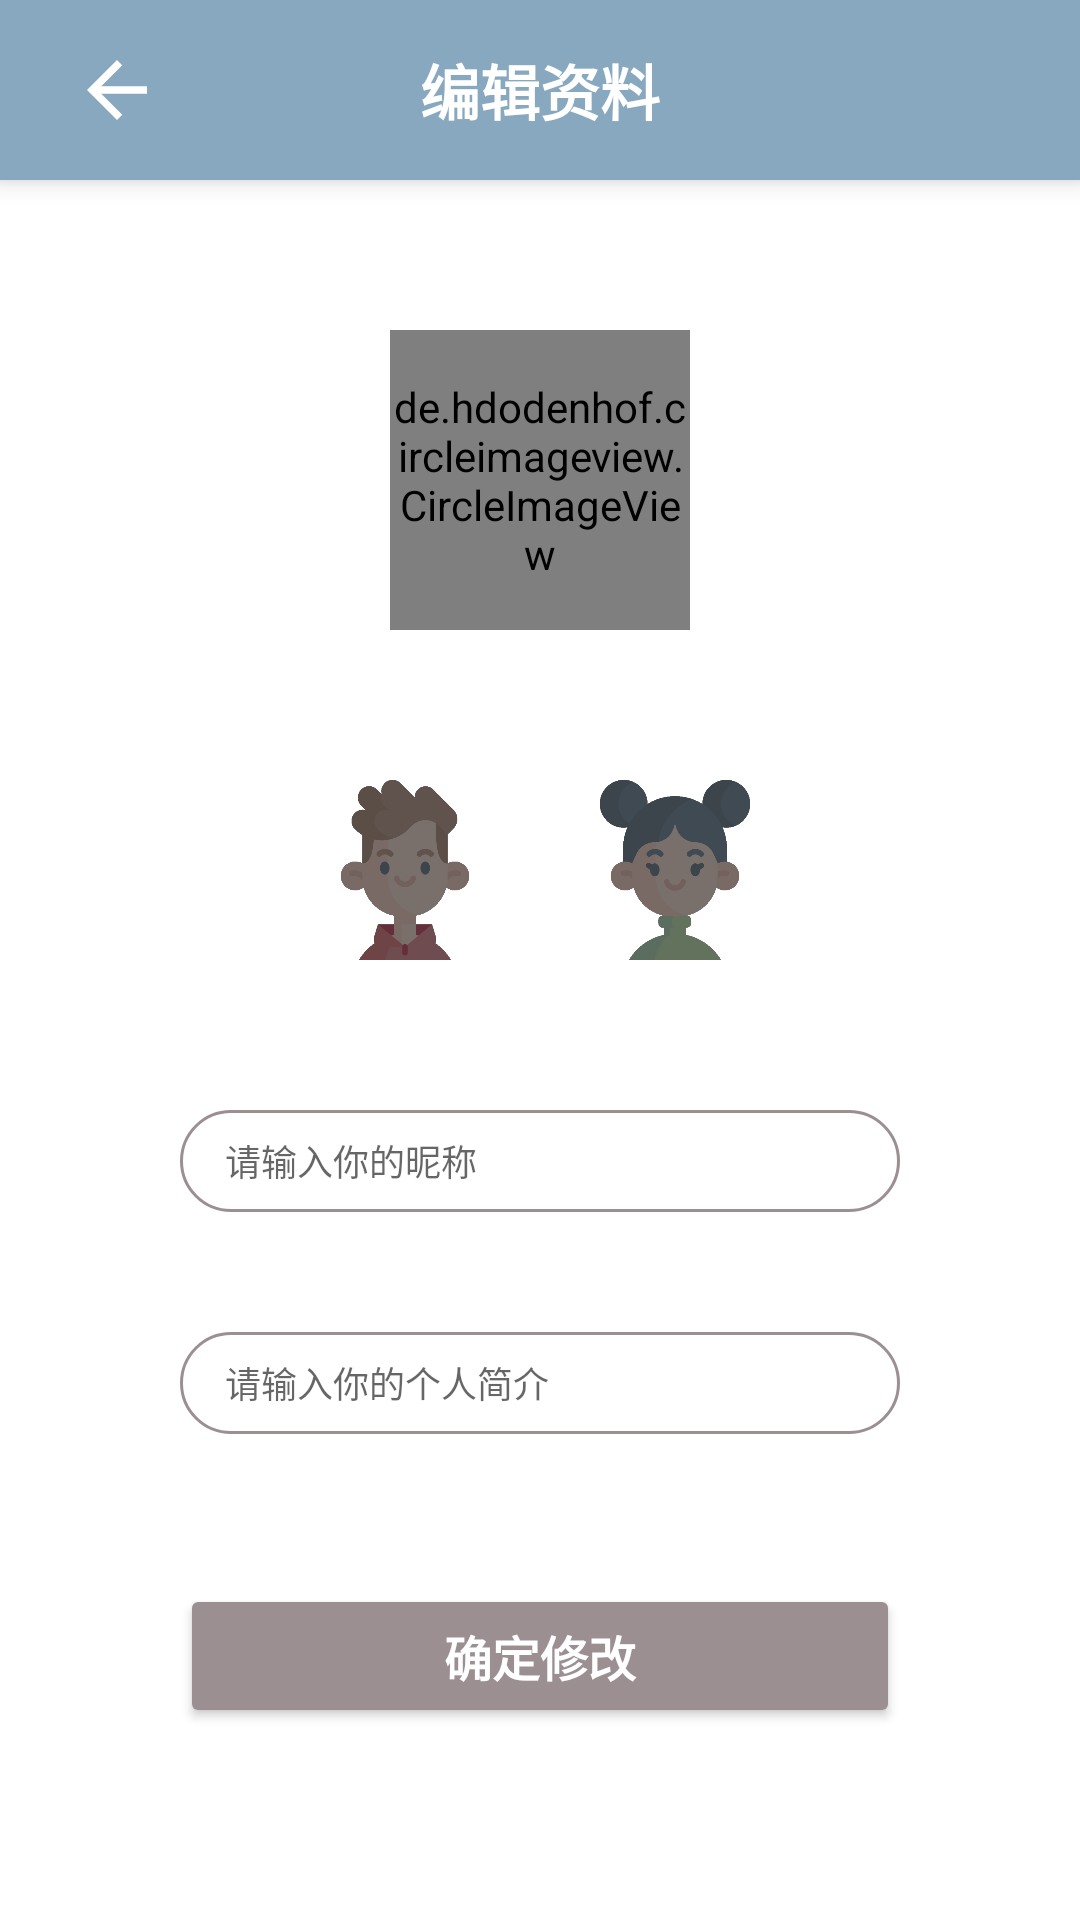

Screen size 1080*1920. Icon name, then its box in pixels as box(x1, y1, x2, y2):
boy: box(341, 780, 469, 960)
girl: box(600, 780, 750, 960)
